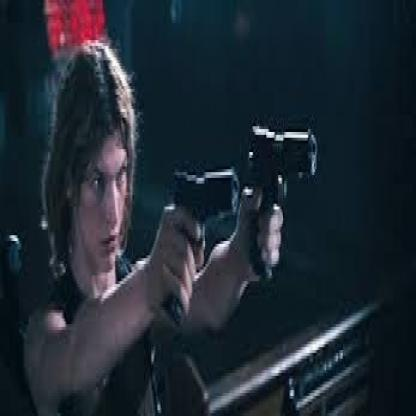Pistol: (245, 124, 317, 282), (171, 167, 238, 322)
